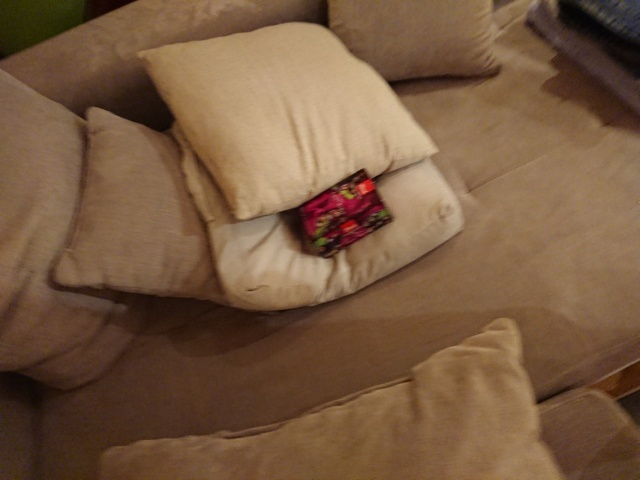Franck Black Currant Tea 60g: (291, 165, 397, 261)
